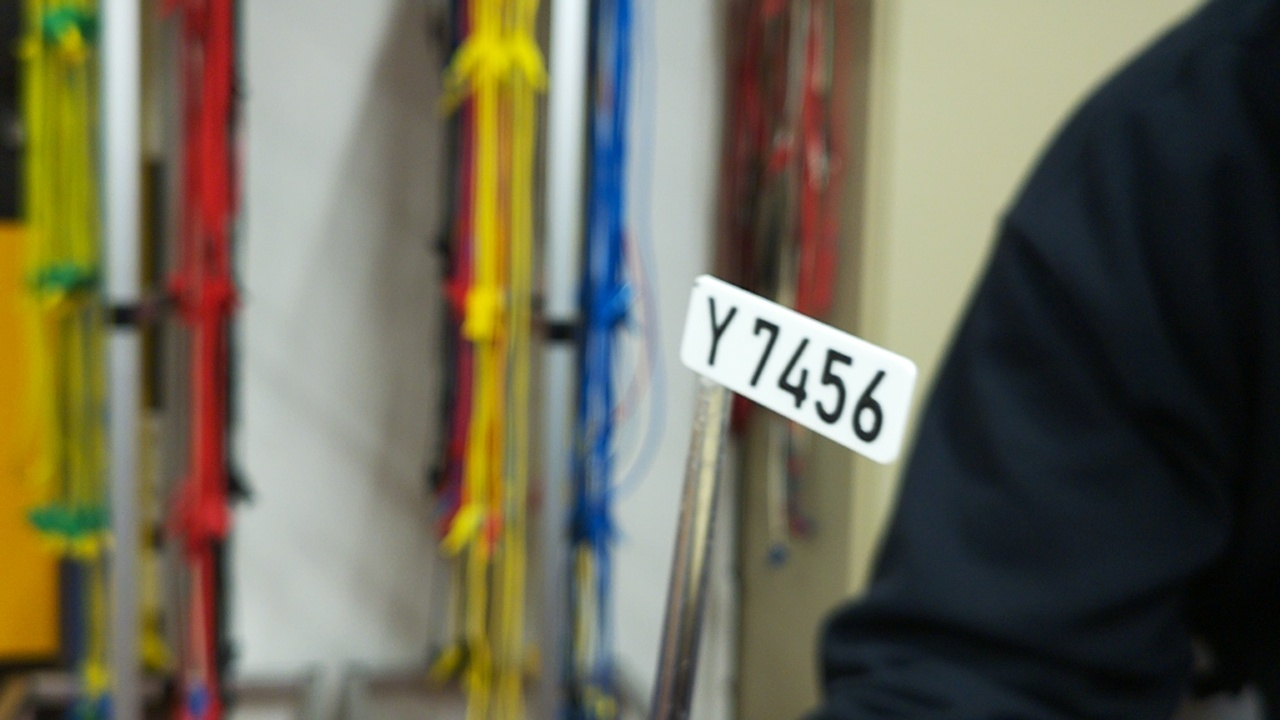license_plate: (675, 270, 920, 470)
